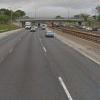Car: (40, 23, 56, 41)
